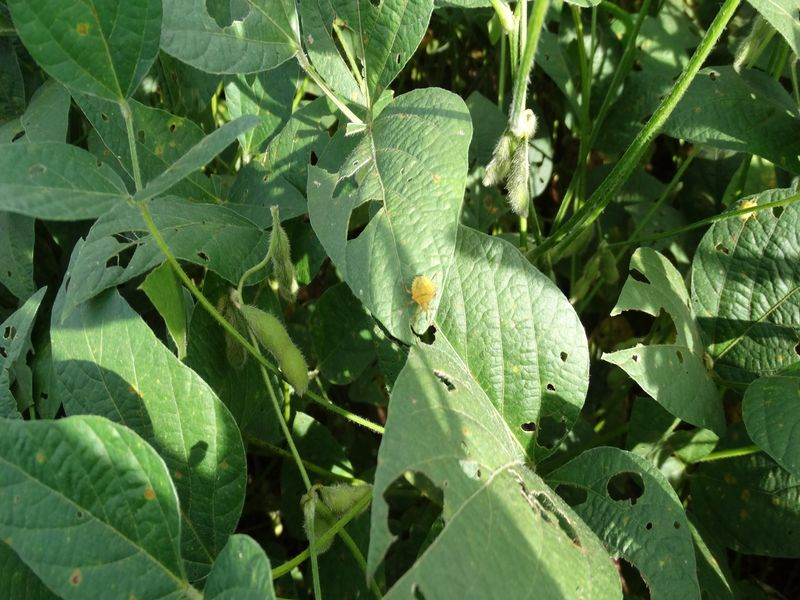Euschistus_heros_ninfa: (398, 265, 452, 324)
